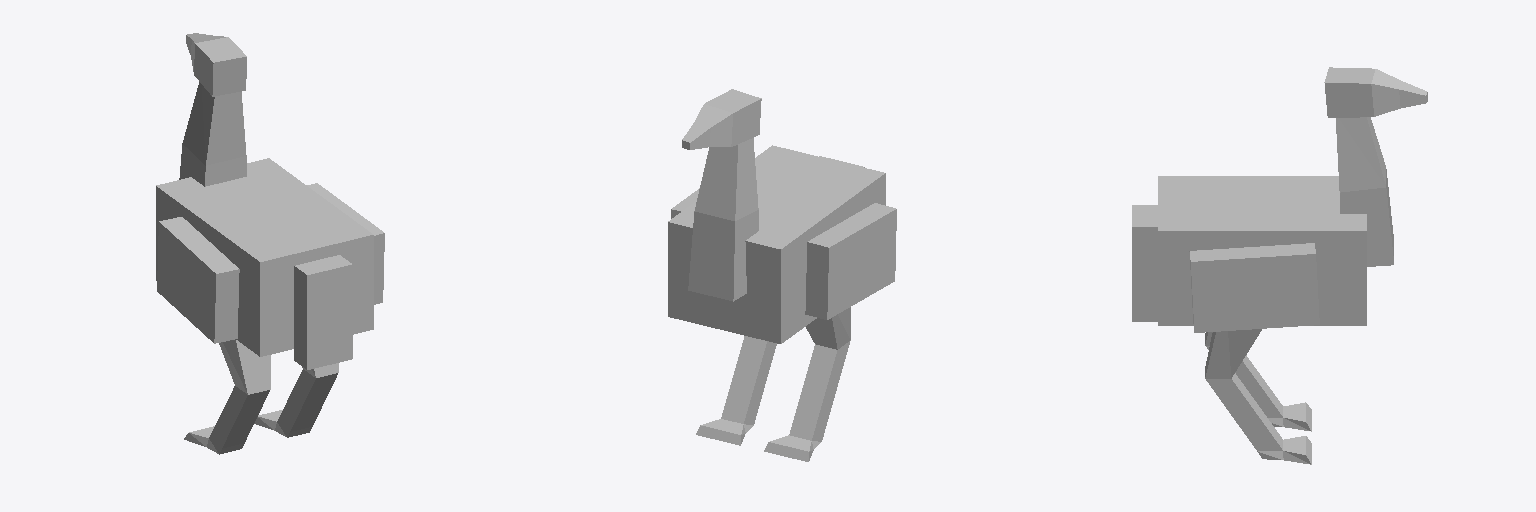
The model's file is Ostrich_000038.obj.
3 renders of one model, left to right at view 1: azimuth 30°, elevation 25°; view 2: azimuth 150°, elevation 25°; view 3: azimuth 270°, elevation 25°, orthographic.
Visible parts, largest first — view 1: Cube_Cube.001; view 2: Cube_Cube.001; view 3: Cube_Cube.001.
Part boxes in pixels (left/top/right/bottom): Cube_Cube.001: left=156, top=33, right=384, bottom=454; Cube_Cube.001: left=668, top=89, right=896, bottom=461; Cube_Cube.001: left=1132, top=67, right=1427, bottom=464.
Bounding box in the file's own units: 0.7449 × 1.53 × 1.13.